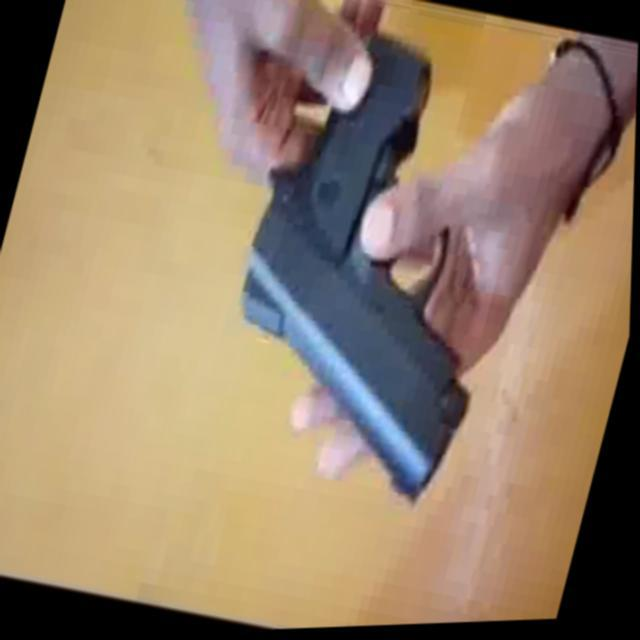weapon: (194, 10, 558, 518)
